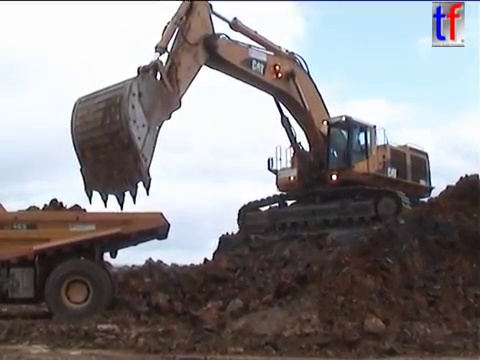excavator: (66, 1, 437, 243)
truck: (1, 199, 173, 325)
